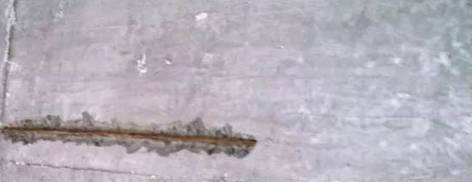Exposed reinforcement: (3, 126, 257, 147)
Spalling: (1, 110, 258, 159)
